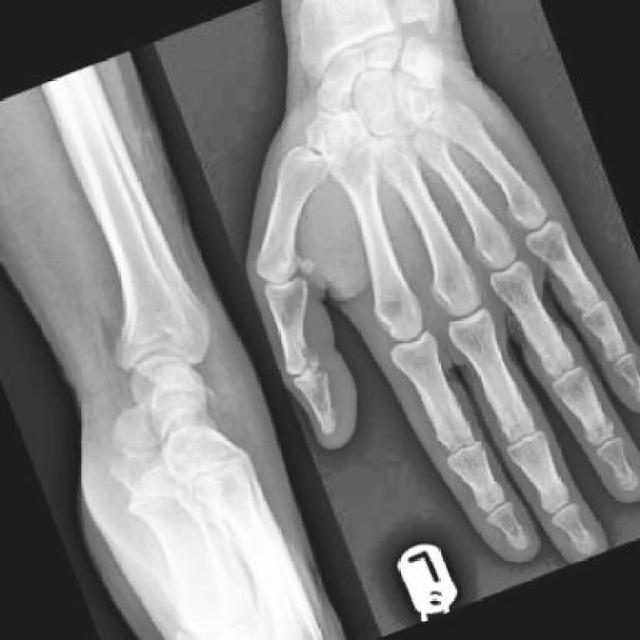Fracture: (399, 38, 447, 80), (194, 380, 223, 409)
